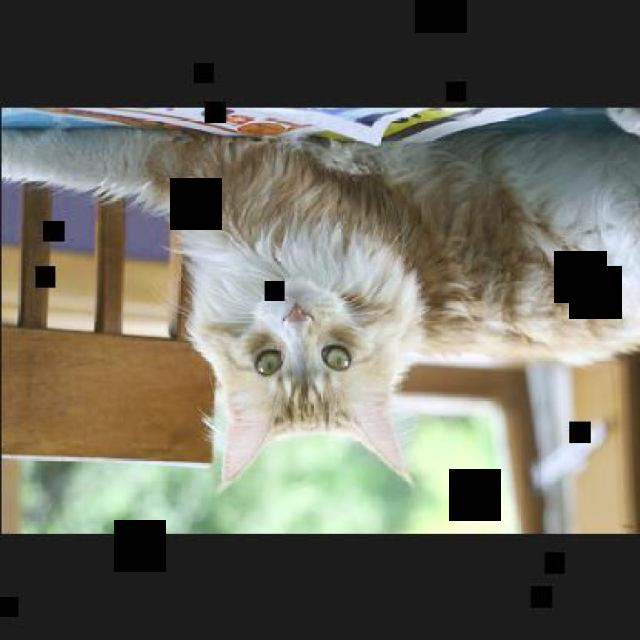unauthorized: (0, 104, 638, 492)
